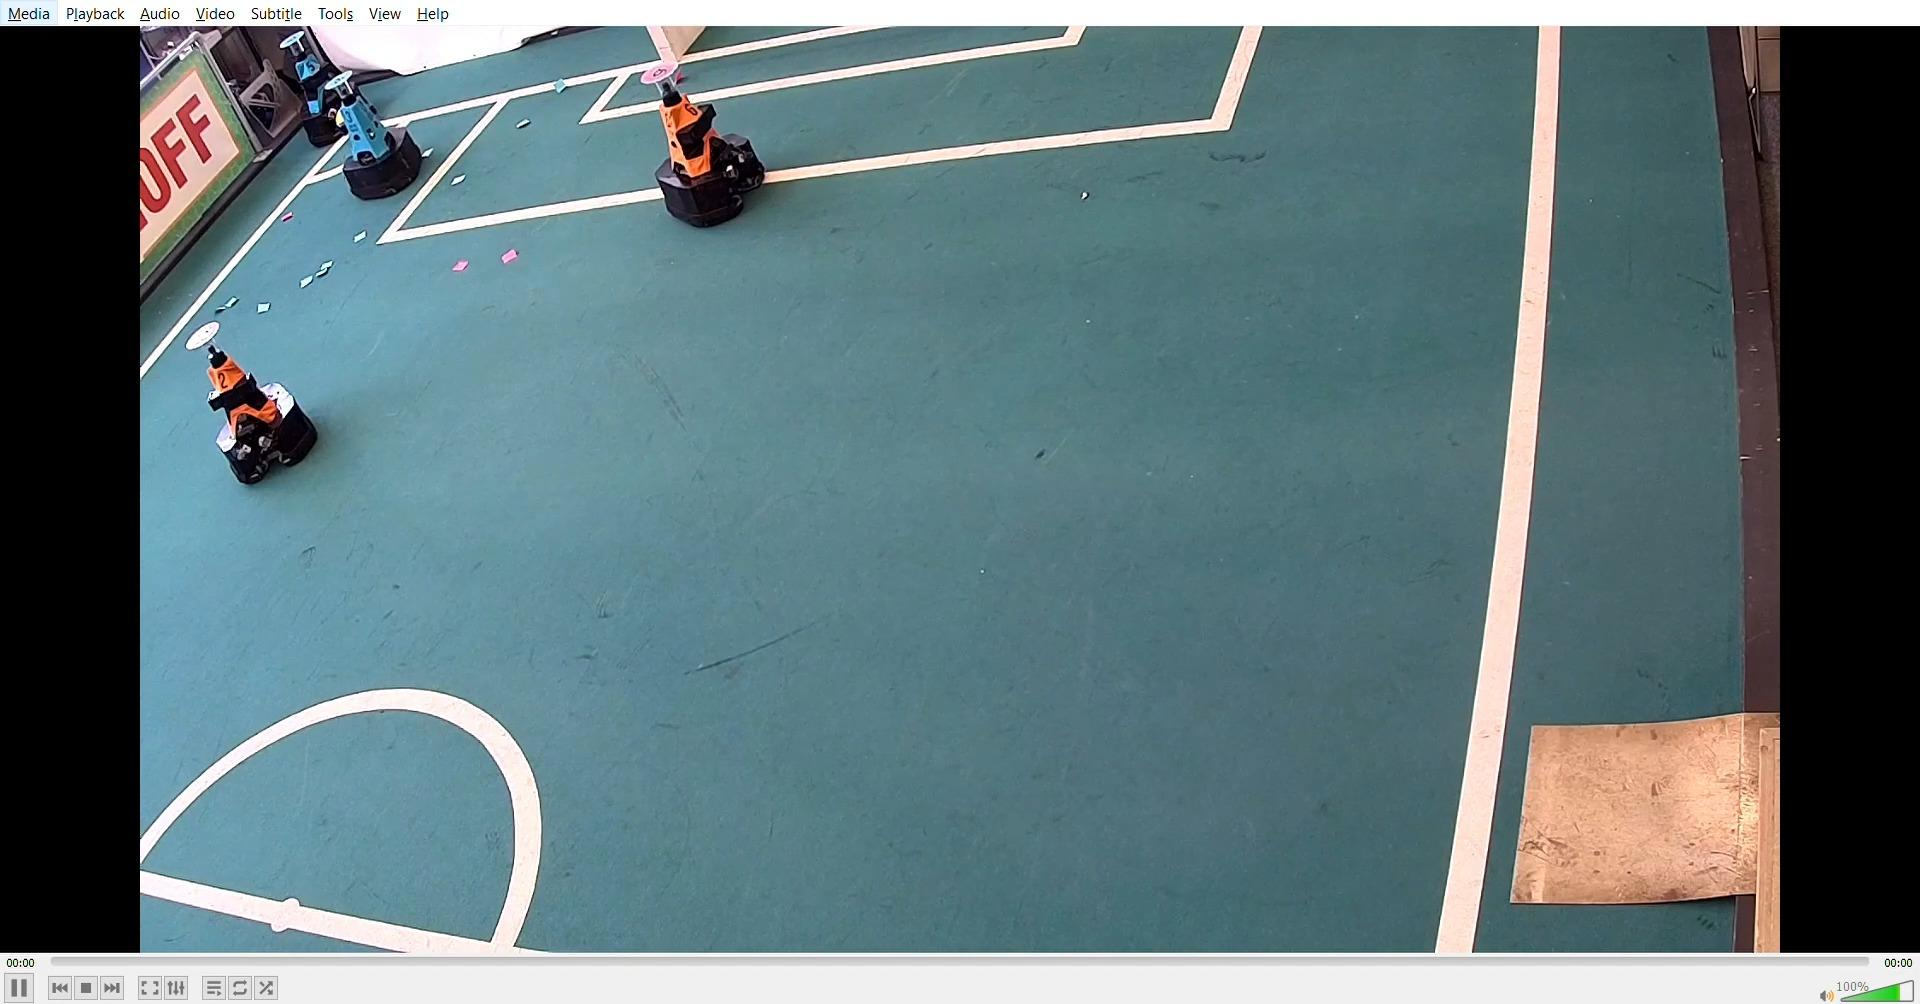Ball: (333, 105, 358, 132)
Team_Blue: (320, 70, 425, 201), (277, 32, 375, 149)
Team_Red: (636, 53, 768, 236), (185, 319, 320, 494)
